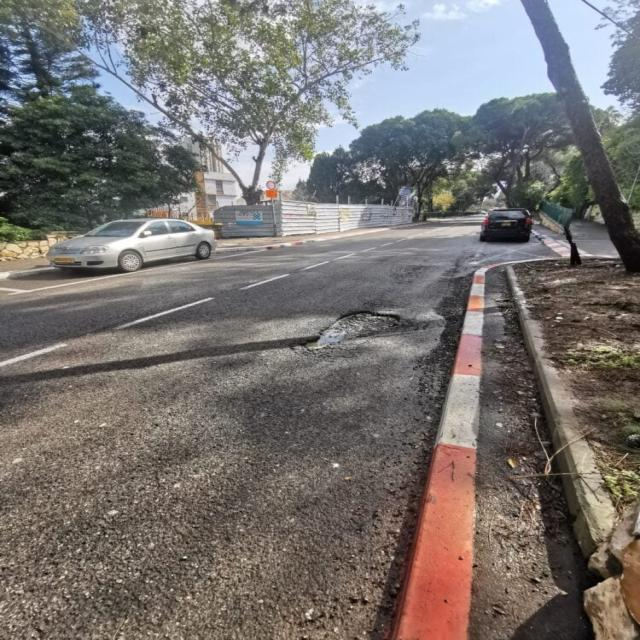major_pothole: (298, 308, 401, 351)
